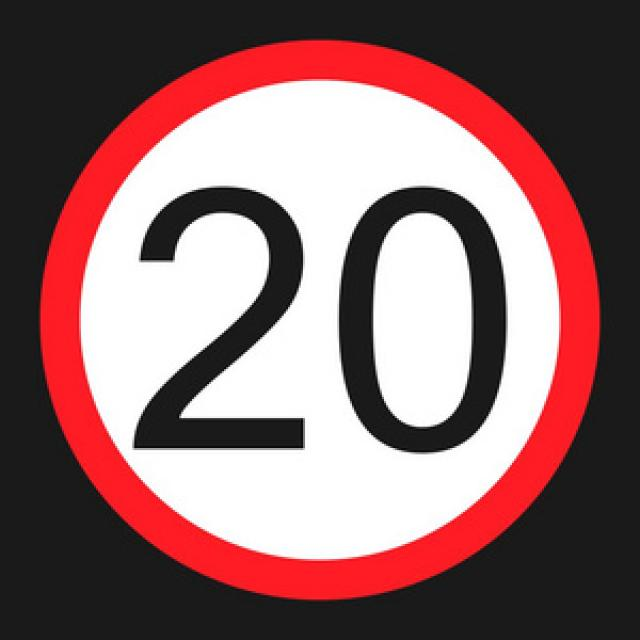speed limit 20: (39, 42, 605, 603)
